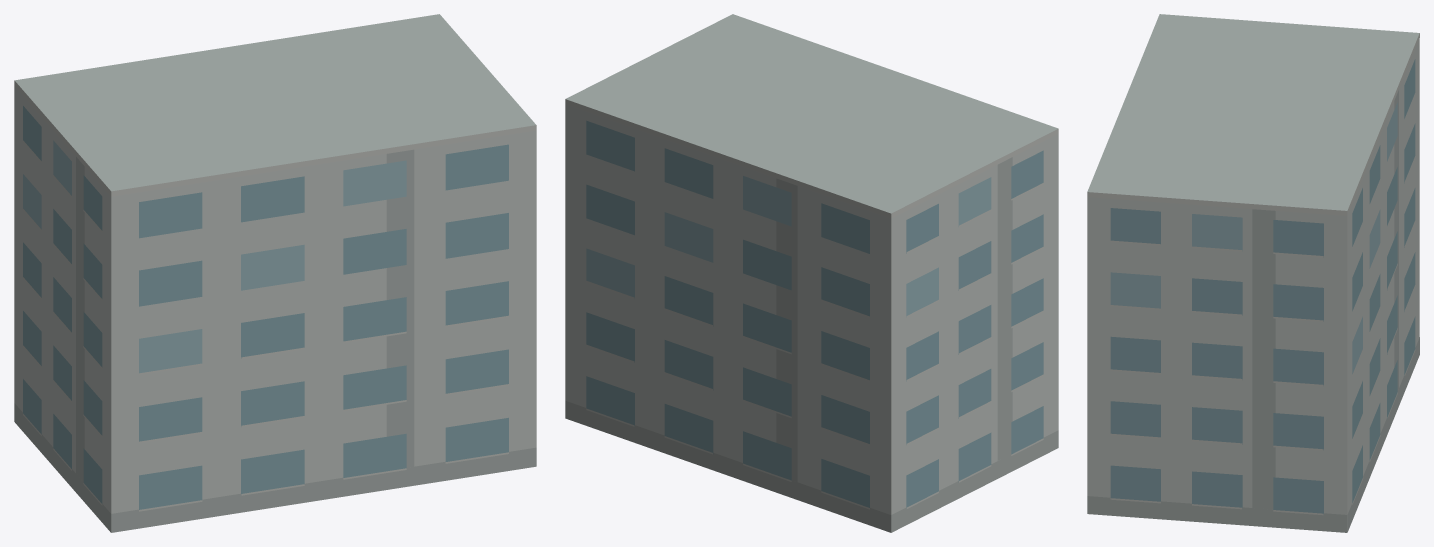
The model's file is residential-e15e1e48-a8f2-4f07-a737-7dc9b4270635.glb.
3 views of the same model, side by side, from view 1: azimuth 30°, elevation 25°; view 2: azimuth 150°, elevation 25°; view 3: azimuth 270°, elevation 25° (orthographic). The views are drawn at different scales.
Parts seen in each view (by area): view 1: residential-e15e1e48-a8f2-4f07-a737-7dc9b4270635.tmp; view 2: residential-e15e1e48-a8f2-4f07-a737-7dc9b4270635.tmp; view 3: residential-e15e1e48-a8f2-4f07-a737-7dc9b4270635.tmp.
Boxes of the visible parts, left/top/right/bottom form: residential-e15e1e48-a8f2-4f07-a737-7dc9b4270635.tmp: left=14, top=14, right=536, bottom=532; residential-e15e1e48-a8f2-4f07-a737-7dc9b4270635.tmp: left=565, top=14, right=1058, bottom=532; residential-e15e1e48-a8f2-4f07-a737-7dc9b4270635.tmp: left=1087, top=14, right=1419, bottom=532.
Size of the model in its own units: 20.01 by 15.25 by 14.28.
